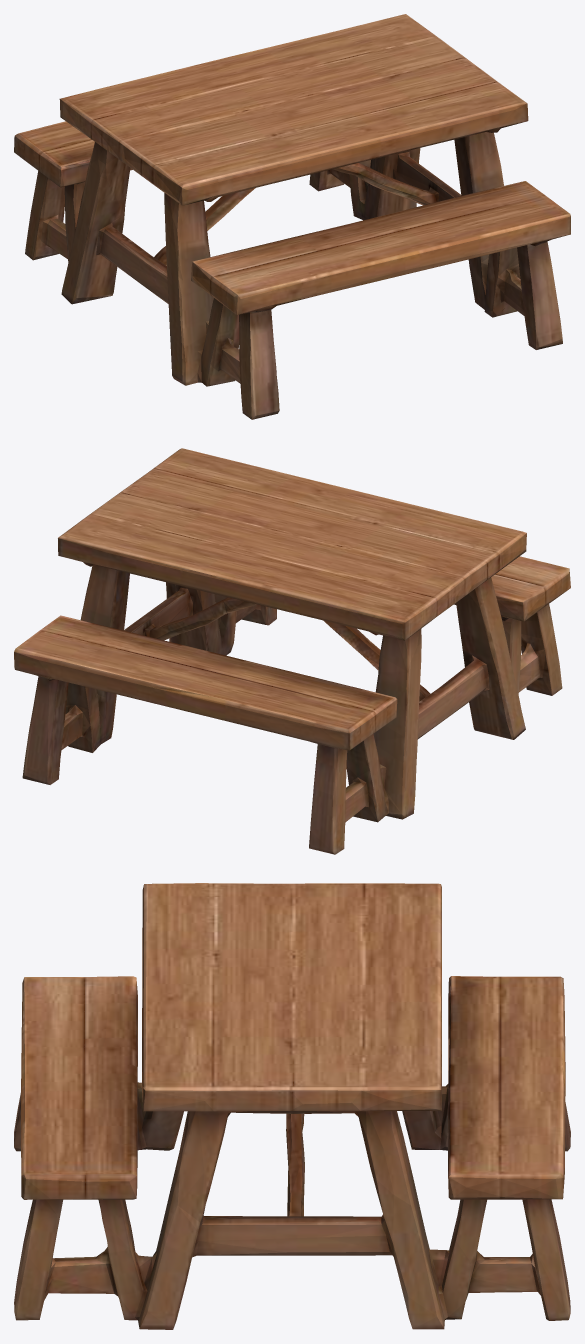
The model's file is table_bench_set_lod0.glb.
3 renders of one model, top to bottom at view 1: azimuth 30°, elevation 25°; view 2: azimuth 150°, elevation 25°; view 3: azimuth 270°, elevation 25°, orthographic. The views are drawn at different scales.
Parts seen in each view (by area): view 1: table_bench_set_lod0; view 2: table_bench_set_lod0; view 3: table_bench_set_lod0.
Boxes of the visible parts, x1,y1,x2,y2 form: table_bench_set_lod0: (14, 14, 570, 419); table_bench_set_lod0: (14, 448, 570, 854); table_bench_set_lod0: (14, 883, 570, 1329).
Bounding box in the file's own units: 1.94 × 1.07 × 2.2.
Materials: 1 (1 with a texture image).
